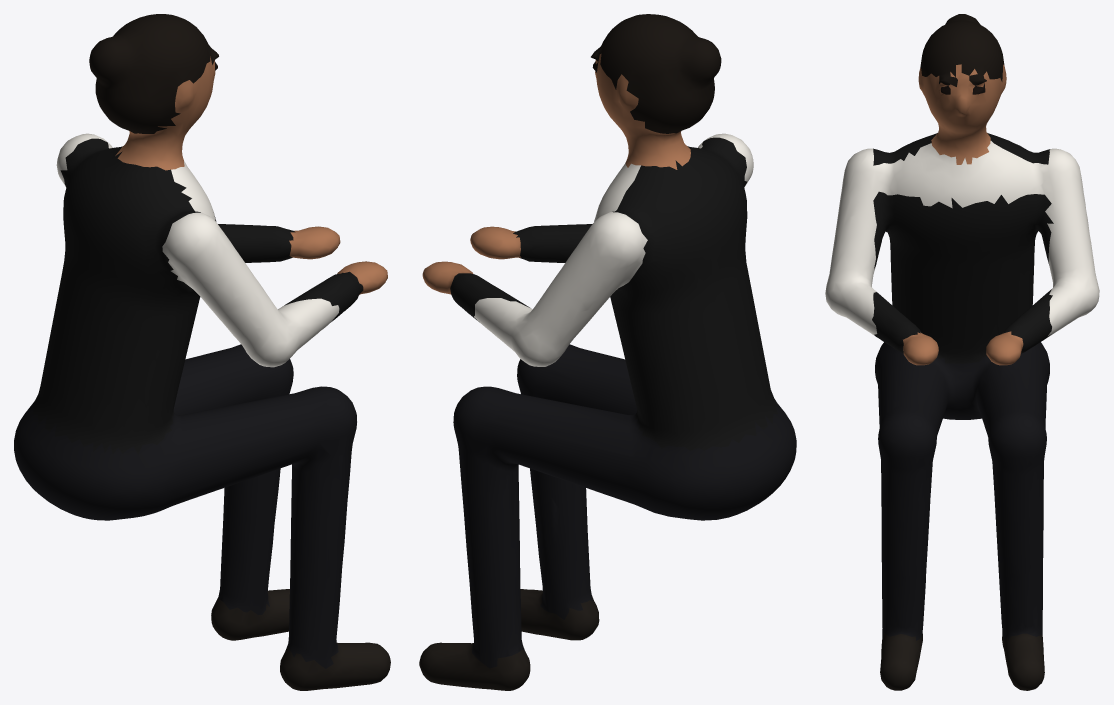
The model's file is SM_Crowd_Dealer.glb.
3 views of the same model, side by side, from view 1: azimuth 30°, elevation 25°; view 2: azimuth 150°, elevation 25°; view 3: azimuth 270°, elevation 25° (orthographic). The views are drawn at different scales.
Visible parts, largest first — view 1: SM_Crowd_Dealer; view 2: SM_Crowd_Dealer; view 3: SM_Crowd_Dealer.
Boxes of the visible parts, x1=… form: SM_Crowd_Dealer: x1=14, y1=14, x2=390, y2=690; SM_Crowd_Dealer: x1=419, y1=14, x2=796, y2=690; SM_Crowd_Dealer: x1=825, y1=14, x2=1099, y2=690.
Size of the model in its own units: 0.7221 by 1.41 by 0.5969.
